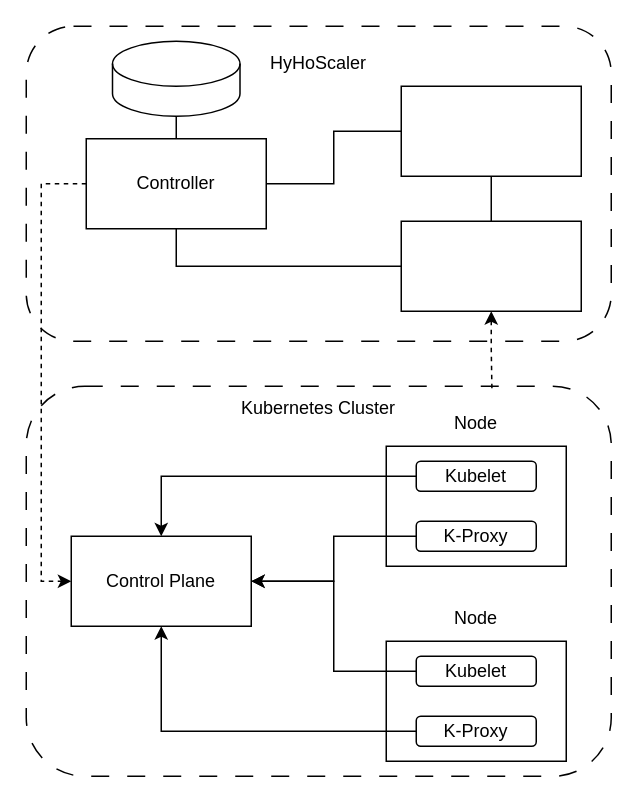
Image size: 638x803. Some labels were removed from this diagram. Here are the shapes that lost their labels. From the top down, the centre of each, then its label:
At (x=175, y=78): "Logger".
At (x=490, y=130): "Scaler".
At (x=490, y=265): "Monitor".
